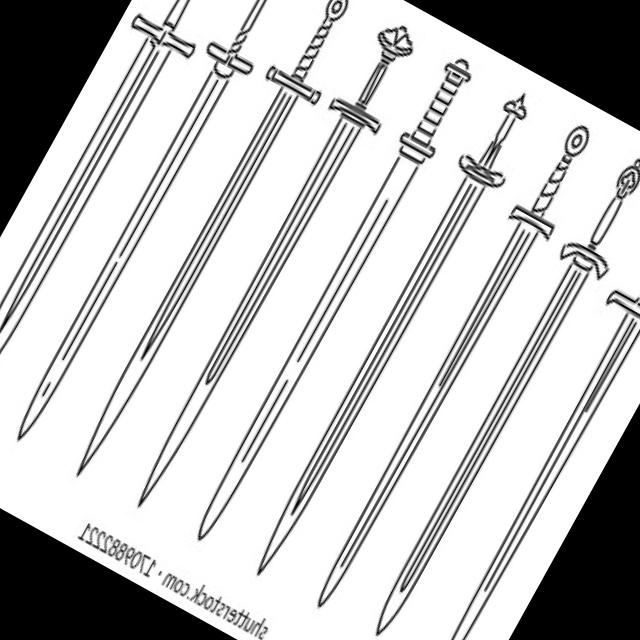Weapon: (231, 75, 552, 595), (290, 111, 610, 628), (113, 11, 430, 521), (174, 47, 487, 558), (48, 0, 373, 492), (348, 140, 640, 640), (0, 0, 308, 459), (402, 170, 640, 640), (0, 0, 256, 431)
